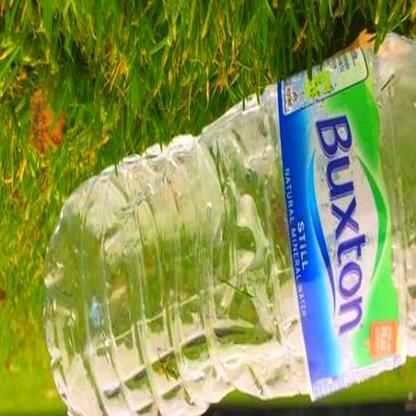plastic bottle: (42, 31, 416, 416)
